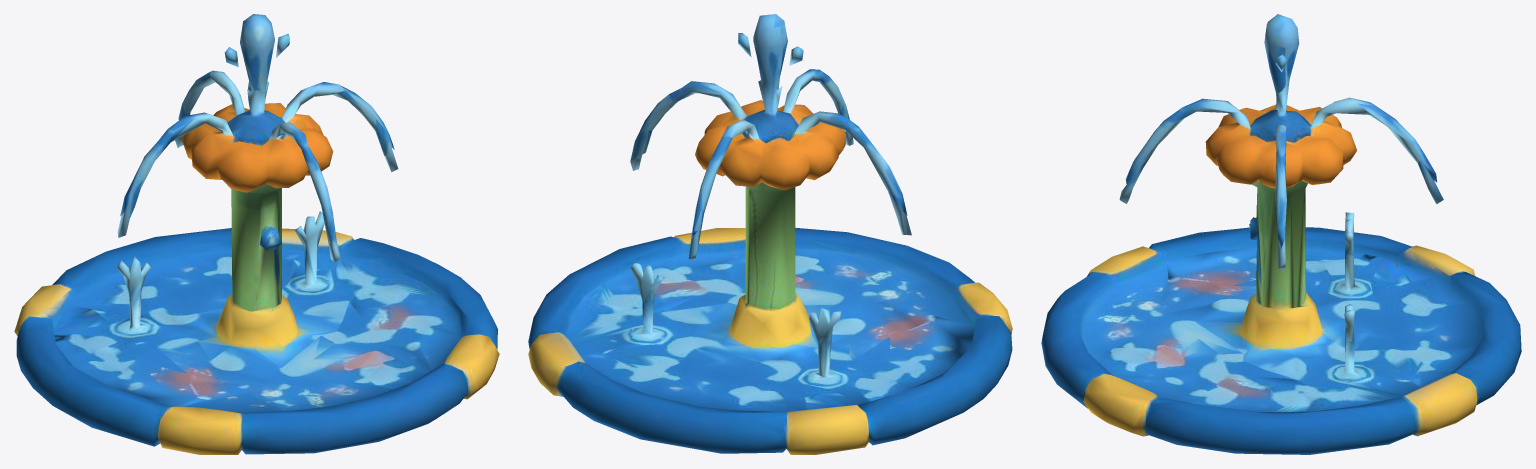
The model's file is splashpad.glb.
3 renders of one model, left to right at view 1: azimuth 30°, elevation 25°; view 2: azimuth 150°, elevation 25°; view 3: azimuth 270°, elevation 25°, orthographic.
Visible parts, largest first — view 1: model; view 2: model; view 3: model.
Part boxes in pixels (left/top/right/bottom): model: left=14, top=14, right=499, bottom=454; model: left=528, top=14, right=1012, bottom=454; model: left=1041, top=14, right=1521, bottom=454.
Size of the model in its own units: 1.89 by 1.5 by 1.89.
1 material, 1 textured.
